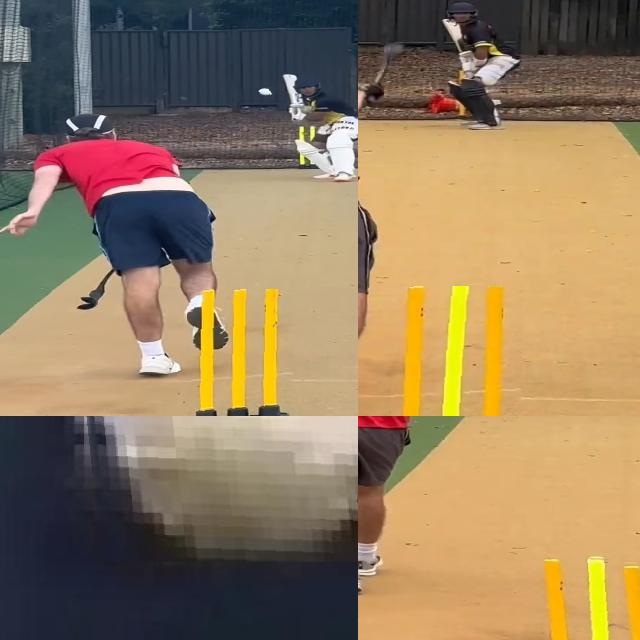Cricket ball: (67, 416, 358, 562), (255, 87, 275, 97)
Stumps: (391, 286, 525, 416), (187, 289, 296, 416), (523, 555, 640, 640)
